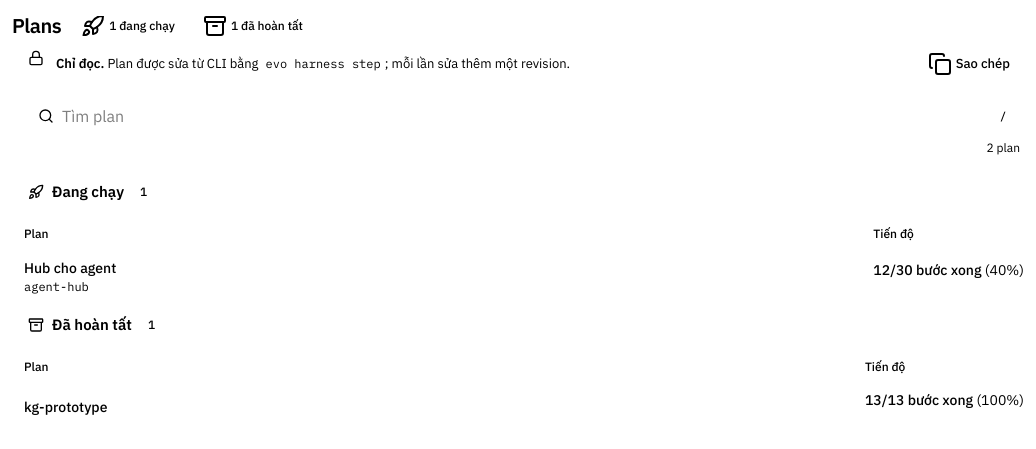
Test: PlansList › filters plans by title or id
Type "kg-" into the search field named "Tìm plan theo tên hoặc mã". click: (524, 116)
box: 62,100 -> 986,132
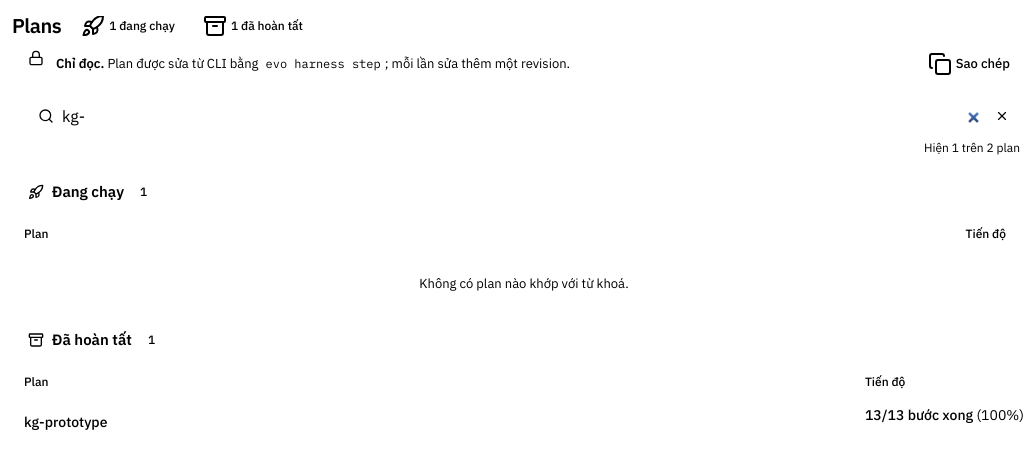
Expected: the link "kg-prototype" is shown, 24,412 -> 107,432
Now the text "Hiện 1 trên 2 plan" is shown, box 924,140 -> 1020,156
Now the link "Hub cho agent" is gone
